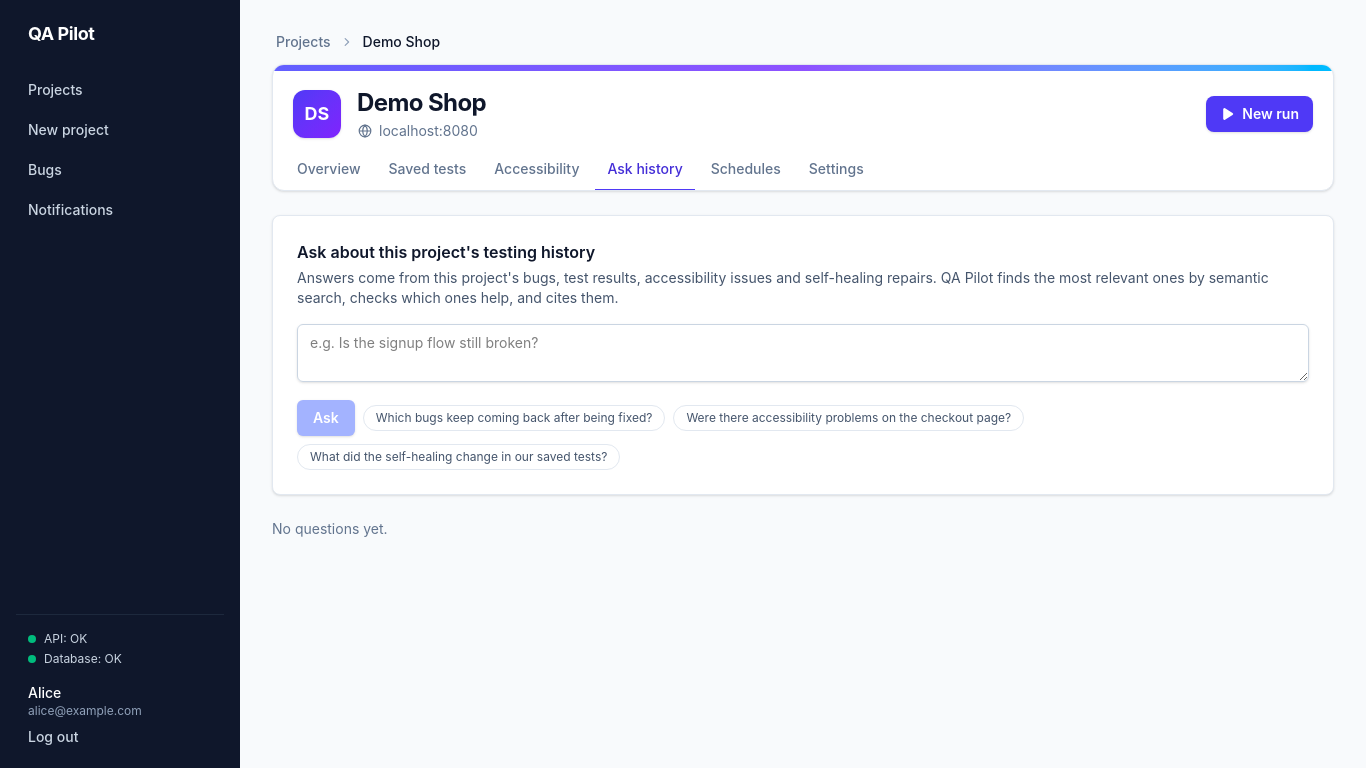
Scenario: ask history page › shows the error when the question cannot be answered
Expected: the text "No questions yet." is shown, [272,520,388,537]
Click the button "Which bugs keep coming back after being fixed?".
click(514, 418)  # box [363,405,666,431]
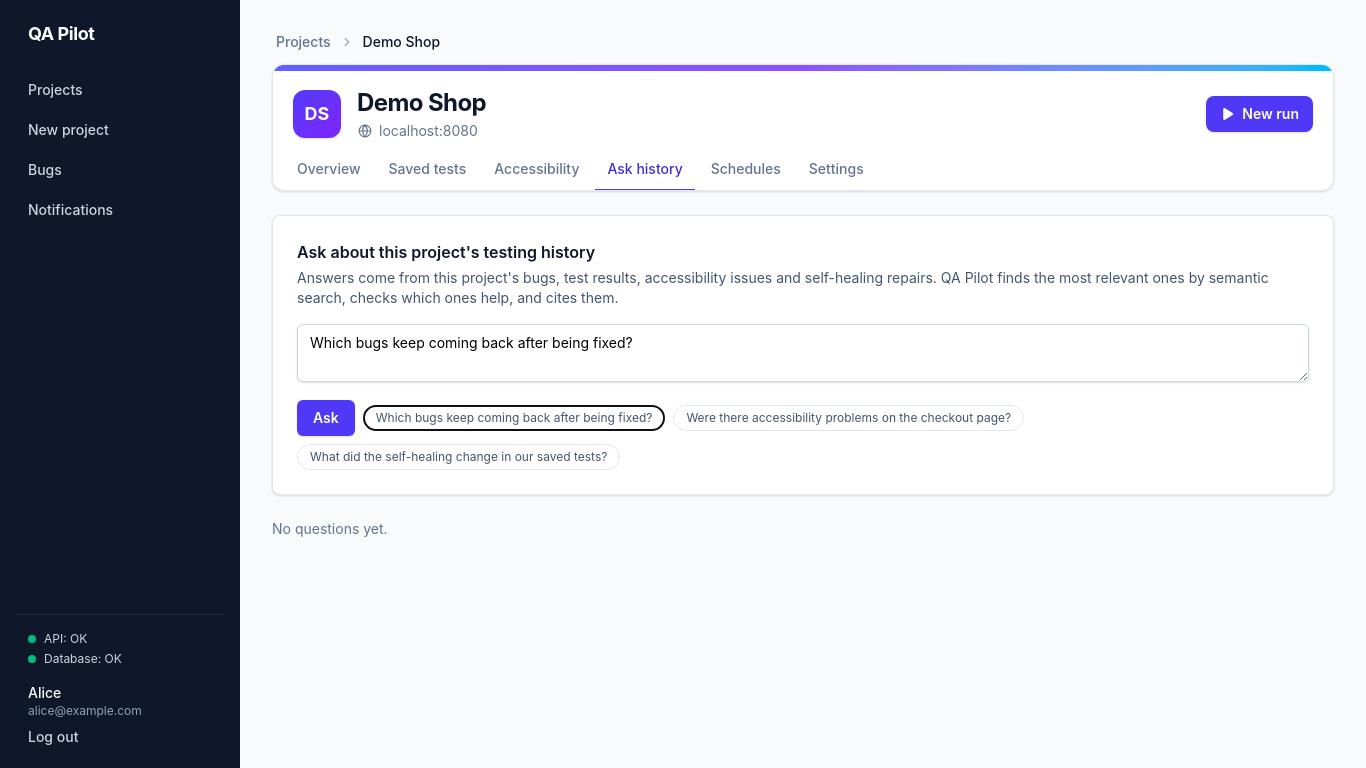
Click the button "Ask".
click(326, 418)  # box [297,400,355,436]
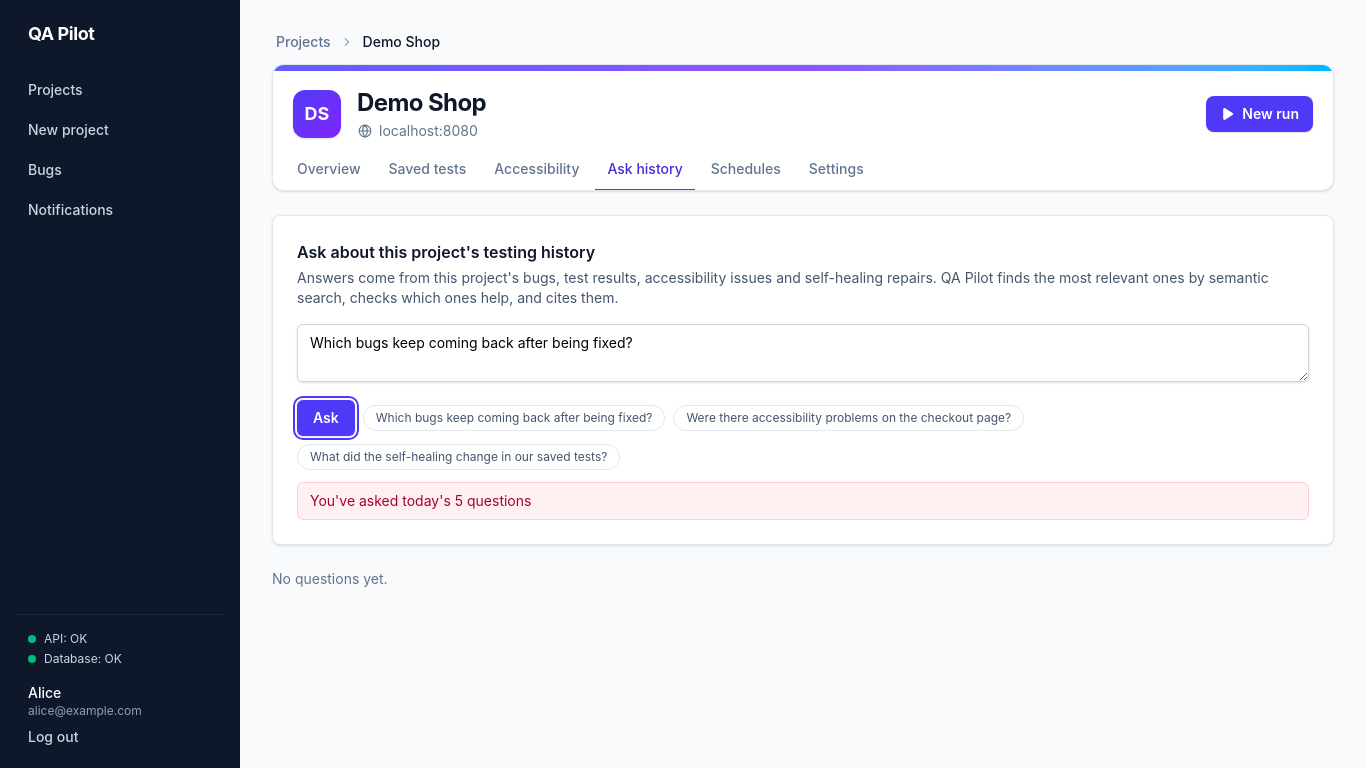
Expected: the message reads "You've asked today's 5 questions", [310,492,531,509]
